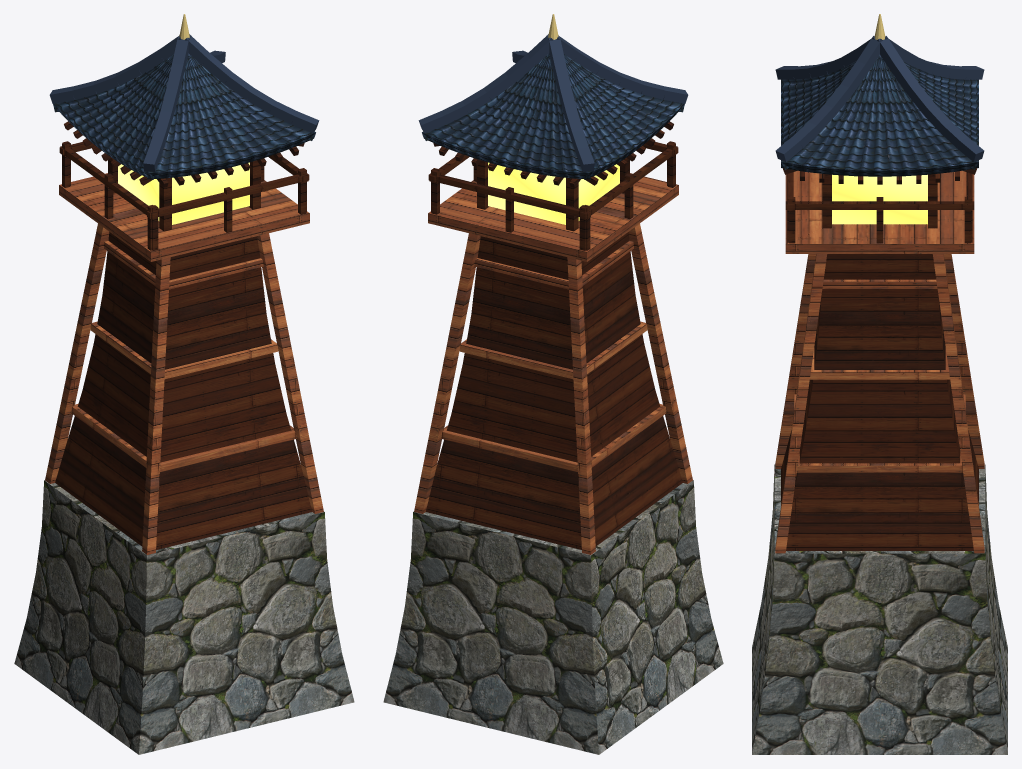
File: harbor_todai.glb
3 views of the same model, side by side, from view 1: azimuth 30°, elevation 25°; view 2: azimuth 150°, elevation 25°; view 3: azimuth 270°, elevation 25° (orthographic). The views are drawn at different scales.
Parts seen in each view (by area): view 1: harbor_todai_castle_stone, harbor_todai_charred, harbor_todai_cedar, harbor_todai_kawara, harbor_todai_beacon_glow; view 2: harbor_todai_castle_stone, harbor_todai_charred, harbor_todai_cedar, harbor_todai_kawara, harbor_todai_beacon_glow; view 3: harbor_todai_castle_stone, harbor_todai_charred, harbor_todai_kawara, harbor_todai_cedar, harbor_todai_beacon_glow.
Boxes of the visible parts, x1,y1,x2,y2 form: harbor_todai_castle_stone: (14, 480, 354, 754); harbor_todai_charred: (55, 121, 311, 549); harbor_todai_cedar: (45, 173, 323, 554); harbor_todai_kawara: (49, 34, 319, 179); harbor_todai_beacon_glow: (118, 162, 249, 224); harbor_todai_castle_stone: (383, 480, 723, 754); harbor_todai_charred: (426, 121, 682, 549); harbor_todai_cedar: (414, 173, 692, 554); harbor_todai_kawara: (418, 34, 688, 179); harbor_todai_beacon_glow: (488, 162, 619, 224); harbor_todai_castle_stone: (752, 464, 1007, 754); harbor_todai_charred: (781, 168, 978, 550); harbor_todai_kawara: (775, 36, 984, 176); harbor_todai_cedar: (775, 170, 984, 553); harbor_todai_beacon_glow: (832, 174, 927, 224).
Bounding box in the file's own units: 3.2 × 9.48 × 3.2.
6 materials, 4 textured.
